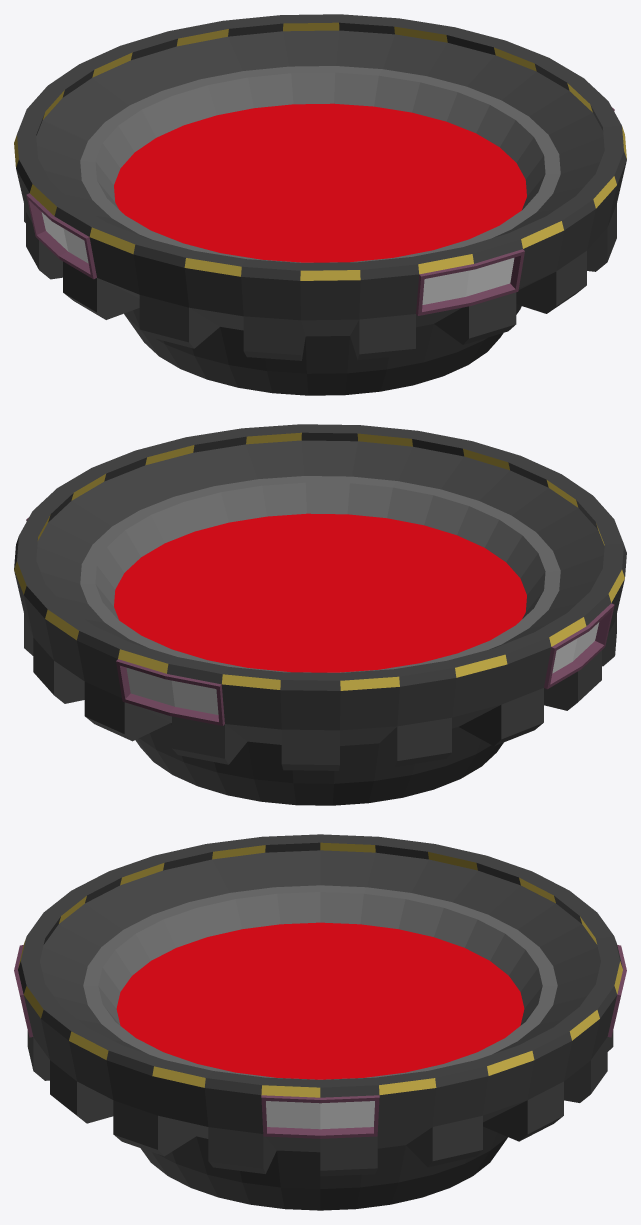
The model's file is MothershipBody.fbx.
The picture shows the model from 3 angles, top to bottom: view 1: azimuth 30°, elevation 25°; view 2: azimuth 150°, elevation 25°; view 3: azimuth 270°, elevation 25°; orthographic projection.
Visible parts, largest first — view 1: ShipBody_LOD0; view 2: ShipBody_LOD0; view 3: ShipBody_LOD0.
Part boxes in pixels (<box>): ShipBody_LOD0: <box>14,14,626,395</box>; ShipBody_LOD0: <box>14,424,626,805</box>; ShipBody_LOD0: <box>14,834,626,1210</box>.
Size of what is drawn, in the model's own units: 184456 by 57121 by 184456.
